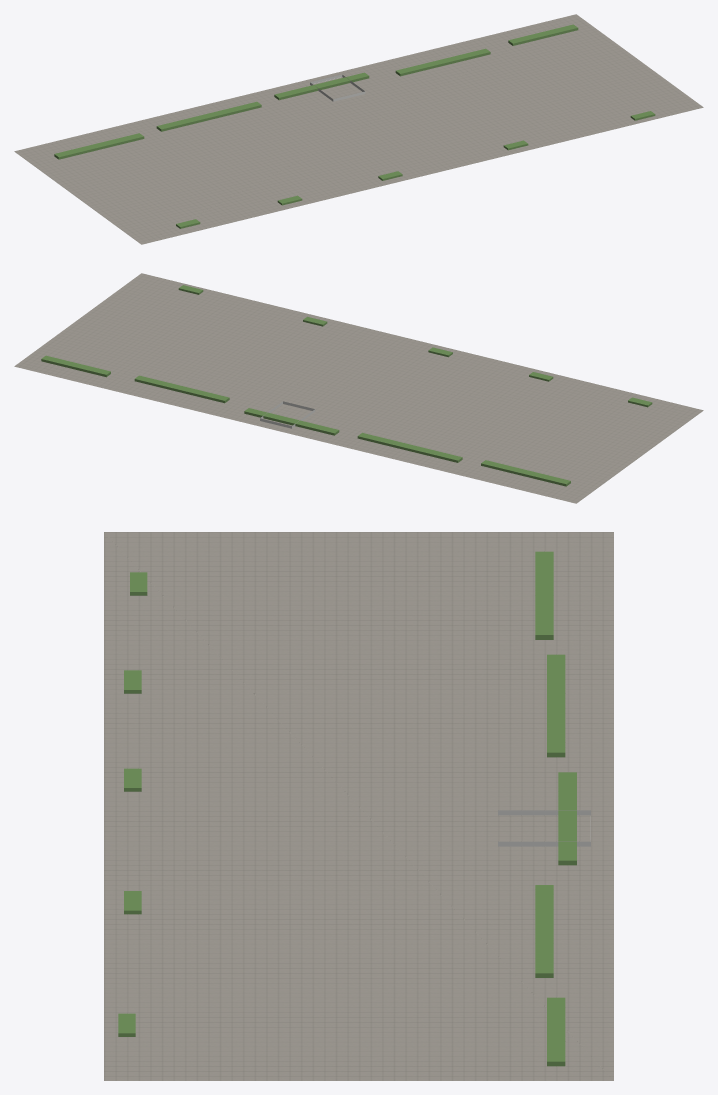
File: plaza.glb
The picture shows the model from 3 angles, top to bottom: view 1: azimuth 30°, elevation 25°; view 2: azimuth 150°, elevation 25°; view 3: azimuth 270°, elevation 25°; orthographic projection. The views are drawn at different scales.
Visible parts, largest first — view 1: Plaza paving, Plaza planters; view 2: Plaza paving, Plaza planters; view 3: Plaza paving, Plaza planters, Basement ramp.
Boxes of the visible parts, box(x1,y1,x2,y2) form: Plaza paving: box(14, 14, 703, 244); Plaza planters: box(54, 24, 655, 228); Plaza paving: box(14, 273, 703, 503); Plaza planters: box(41, 285, 652, 486); Plaza paving: box(104, 532, 613, 1080); Plaza planters: box(118, 551, 576, 1066); Basement ramp: box(498, 810, 590, 846).
Bounding box in the file's own units: 224 × 5.6 × 88.
3 materials, 1 textured.
